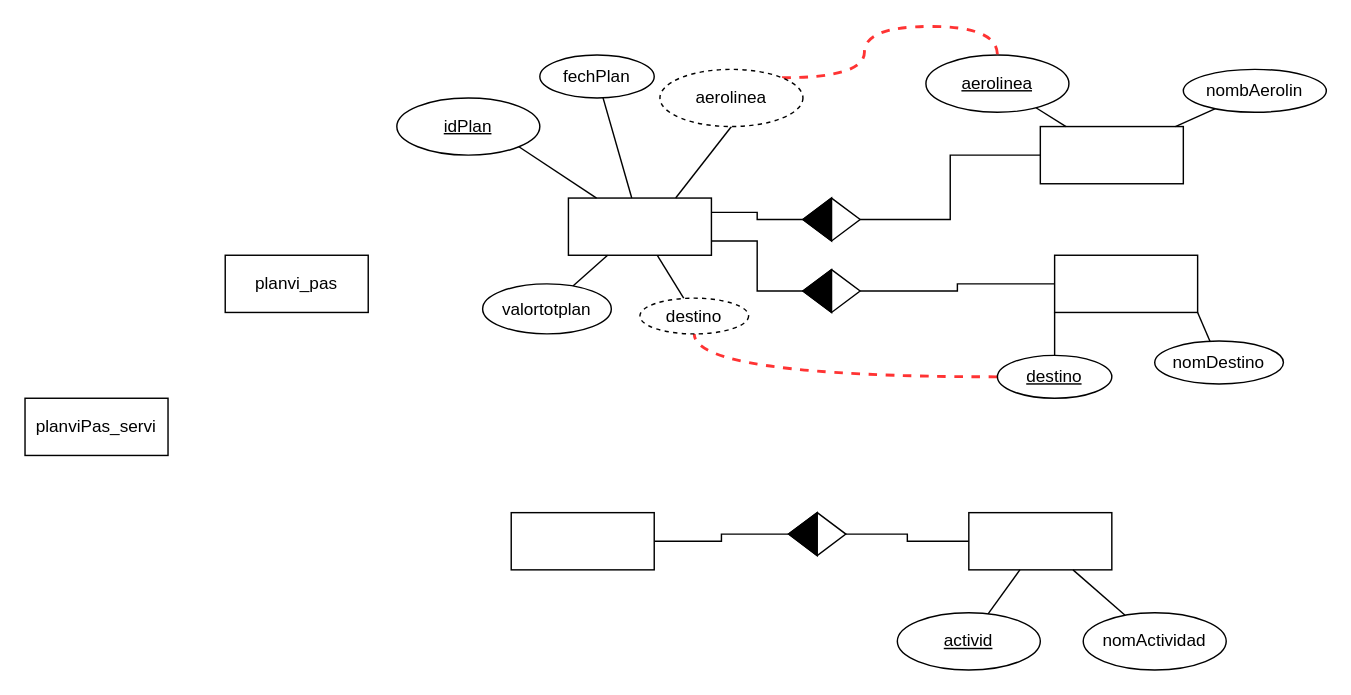
The diagram is 1351 pixels wide and 695 high, and some of its shapes have lost their labels. Here are the shapes that lost their labels. From the top down, the box of each, then its label:
(1039, 125, 1183, 184): Aerolineas
(567, 197, 711, 255): planes_viajes
(1053, 254, 1198, 312): Destinos
(510, 511, 654, 570): pasajeros
(967, 511, 1112, 570): Actividades
